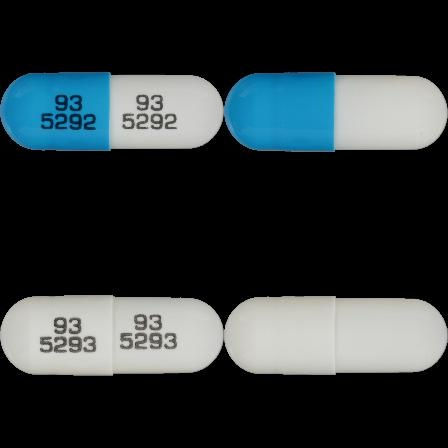0093-5292: (0, 0, 224, 224)
